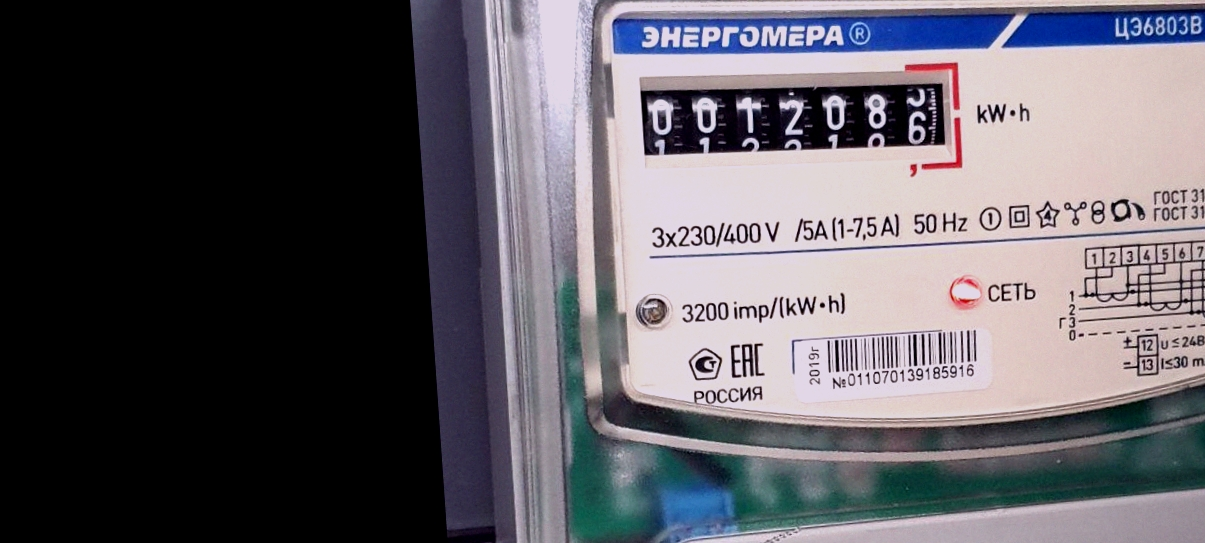0: (691, 92, 722, 135), (648, 93, 675, 136), (822, 91, 848, 131)
1: (736, 92, 761, 134)
2: (779, 96, 807, 136)
6: (902, 107, 929, 145)
8: (864, 89, 889, 130)
screen: (629, 40, 976, 202)
